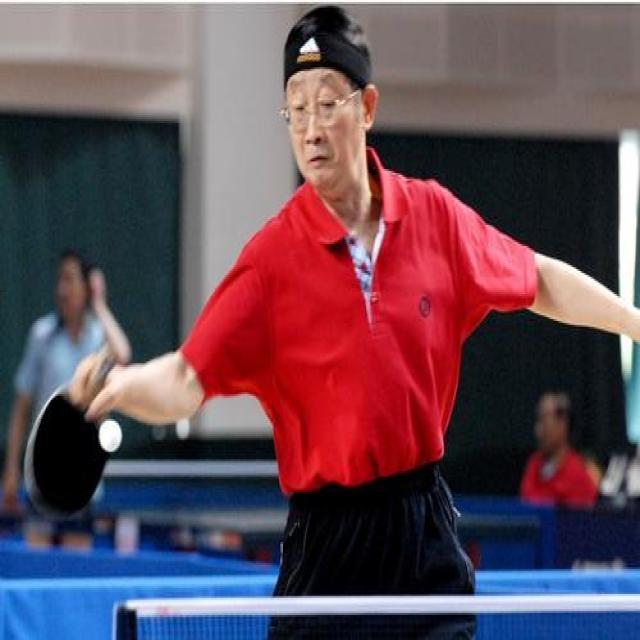ping-pong-ball: (98, 418, 124, 453)
